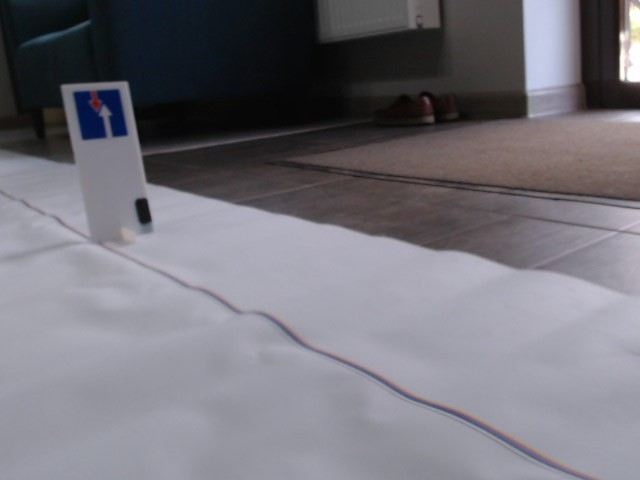priority_movement: (68, 88, 130, 142)
